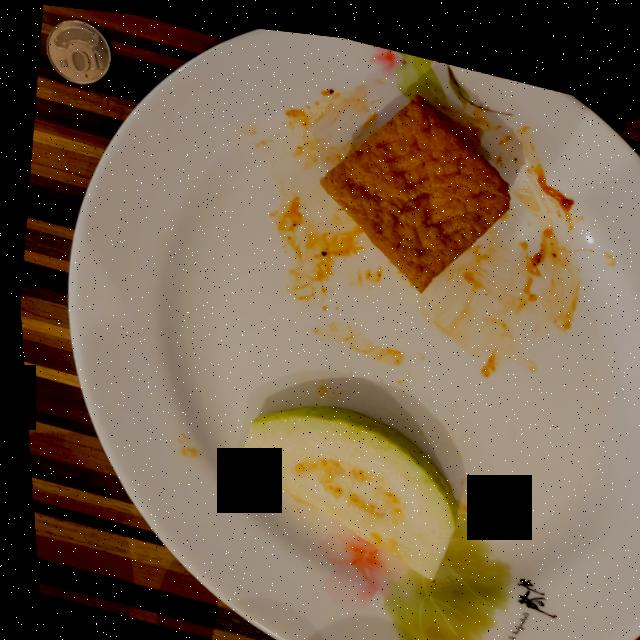coin: (45, 18, 110, 83)
egg tofu: (318, 85, 508, 282)
guava -sliced-: (232, 400, 449, 571)
